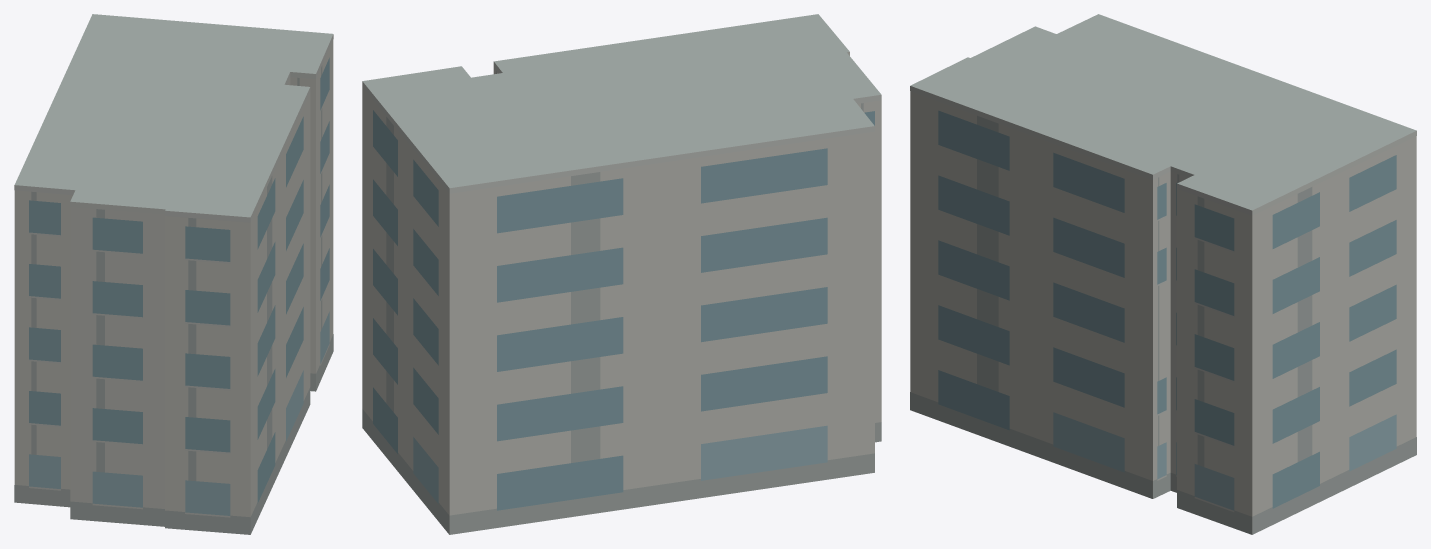
File: survey-upis-32886740.glb
The picture shows the model from 3 angles, left to right: view 1: azimuth 30°, elevation 25°; view 2: azimuth 150°, elevation 25°; view 3: azimuth 270°, elevation 25°; orthographic projection. The views are drawn at different scales.
Parts seen in each view (by area): view 1: survey-upis-32886740.tmp; view 2: survey-upis-32886740.tmp; view 3: survey-upis-32886740.tmp.
Boxes of the visible parts, x1,y1,x2,y2 form: survey-upis-32886740.tmp: (14,14,333,534); survey-upis-32886740.tmp: (362,14,881,534); survey-upis-32886740.tmp: (910,14,1416,534).
Bounding box in the file's own units: 19.16 × 14.74 × 20.87.
